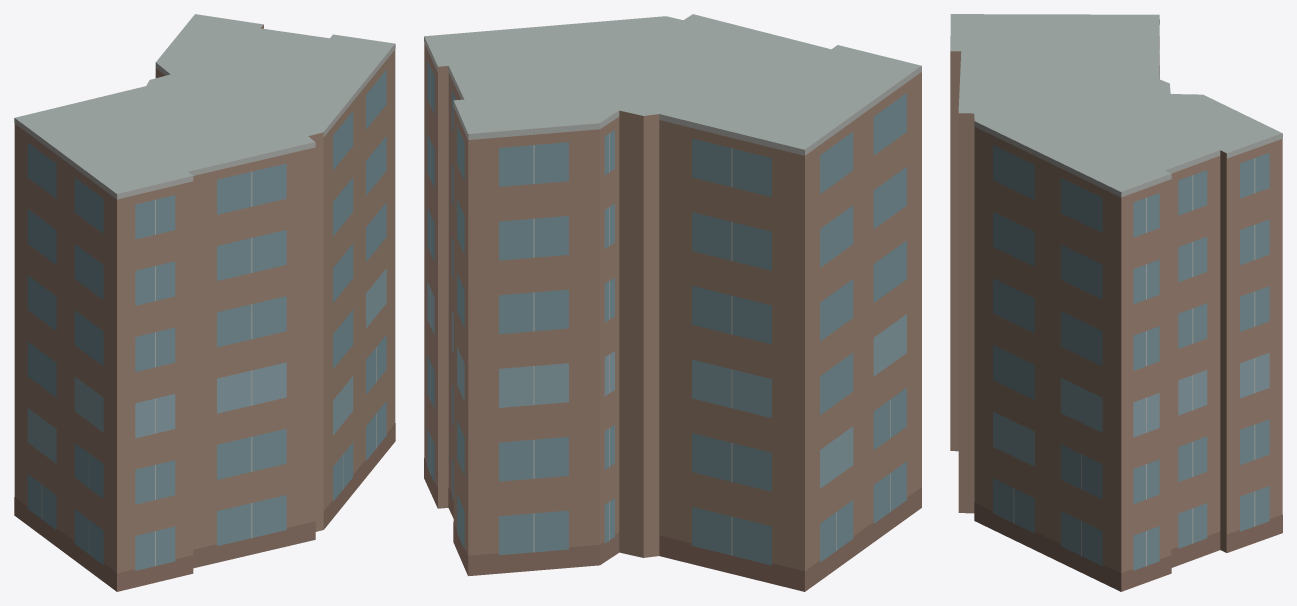
Rendered from survey-upis-32630491.glb.
3 renders of one model, left to right at view 1: azimuth 30°, elevation 25°; view 2: azimuth 150°, elevation 25°; view 3: azimuth 270°, elevation 25°, orthographic. The views are drawn at different scales.
Parts seen in each view (by area): view 1: survey-upis-32630491.tmp; view 2: survey-upis-32630491.tmp; view 3: survey-upis-32630491.tmp.
Part boxes in pixels (x1,y1,x2,y2): survey-upis-32630491.tmp: [14, 14, 395, 591]; survey-upis-32630491.tmp: [424, 14, 921, 591]; survey-upis-32630491.tmp: [950, 14, 1282, 591].
Bounding box in the file's own units: 17.21 × 18 × 13.58.
